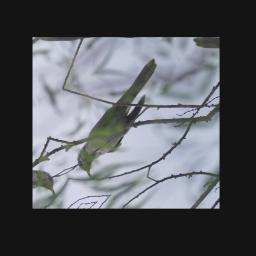Cuckoo: (49, 54, 191, 180)
